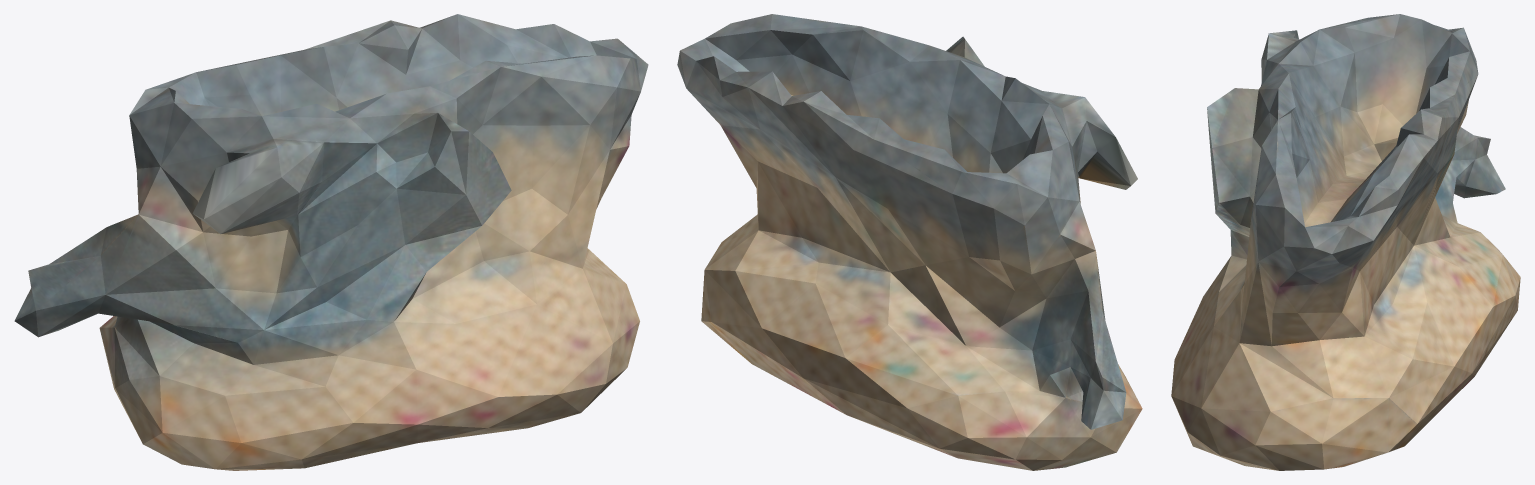
3 renders of one model, left to right at view 1: azimuth 30°, elevation 25°; view 2: azimuth 150°, elevation 25°; view 3: azimuth 270°, elevation 25°, orthographic. The views are drawn at different scales.
Visible parts, largest first — view 1: Puppenschuh_0.6k_512k; view 2: Puppenschuh_0.6k_512k; view 3: Puppenschuh_0.6k_512k.
Boxes of the visible parts, box(x1,y1,x2,y2) form: Puppenschuh_0.6k_512k: box(14, 14, 648, 470); Puppenschuh_0.6k_512k: box(677, 14, 1142, 470); Puppenschuh_0.6k_512k: box(1171, 14, 1520, 470).
Size of the model in its own units: 0.0784 by 0.049 by 0.0452.
1 material, 1 textured.
